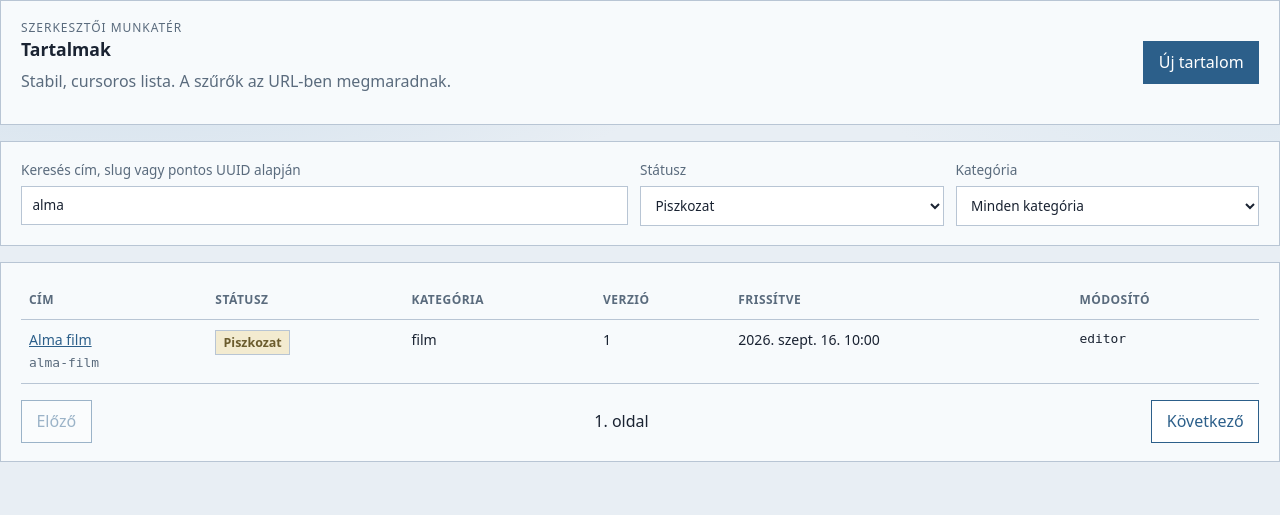
Test: ContentListPage › keeps next, previous and filter reset as one logical step under StrictMode
Click the button "Következő" at (1205, 422), box x1=1151 y1=400 x2=1259 y2=443
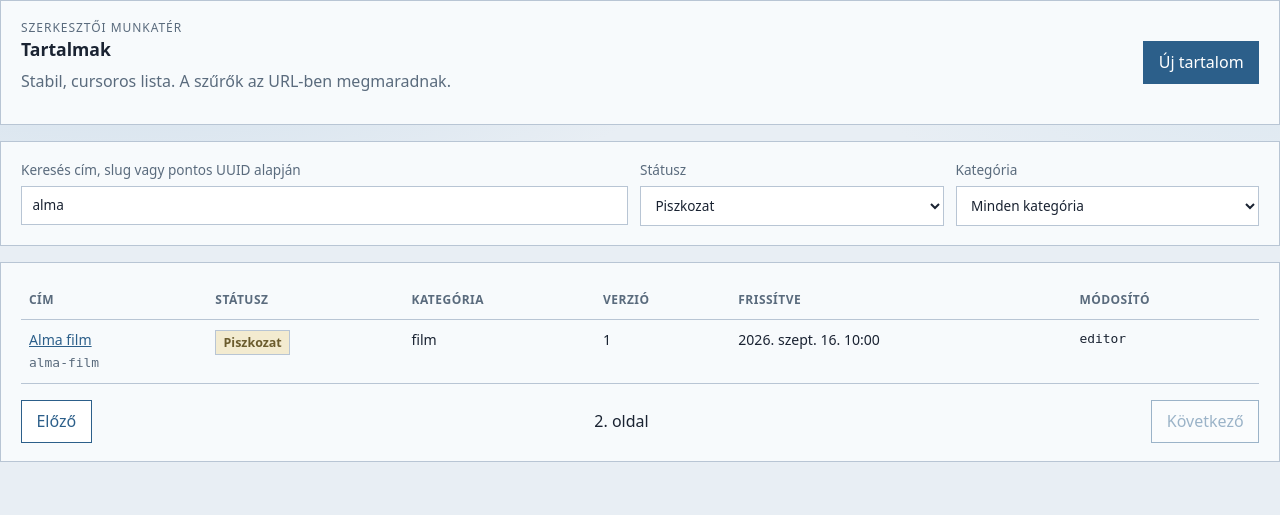
Check: the navigation bar named "Tartalomlista lapozása" shows "2. oldal", box x1=21 y1=384 x2=1259 y2=443
Check: the button "Előző" is enabled
Click the button "Előző" at (56, 422), box x1=21 y1=400 x2=92 y2=443
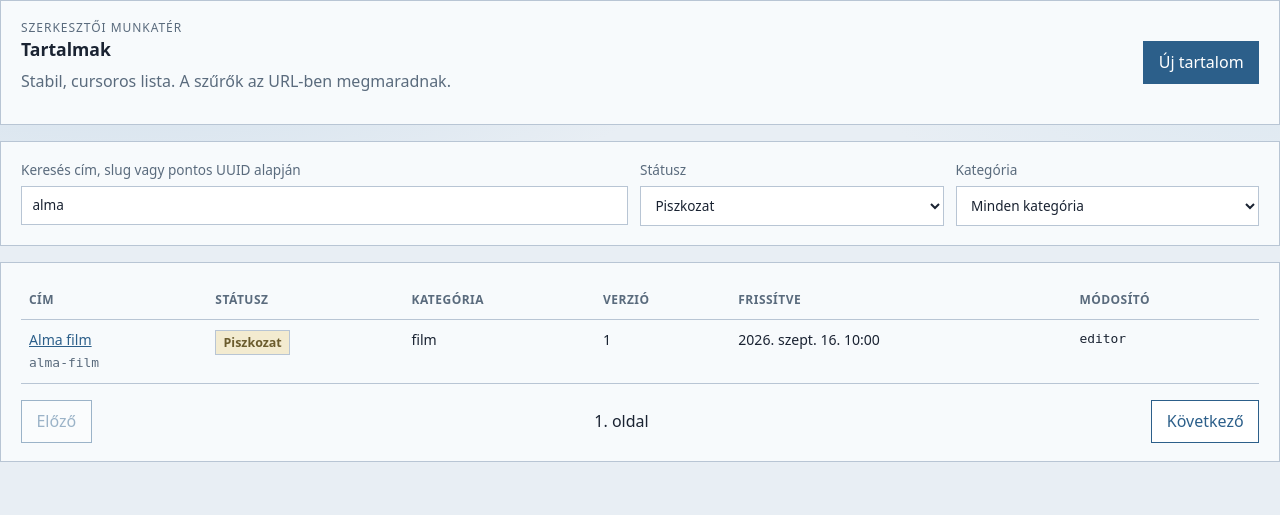
Check: the navigation bar named "Tartalomlista lapozása" shows "1. oldal", box x1=21 y1=384 x2=1259 y2=443
Check: the button "Következő" is enabled
Click the button "Következő" at (1205, 422), box x1=1151 y1=400 x2=1259 y2=443
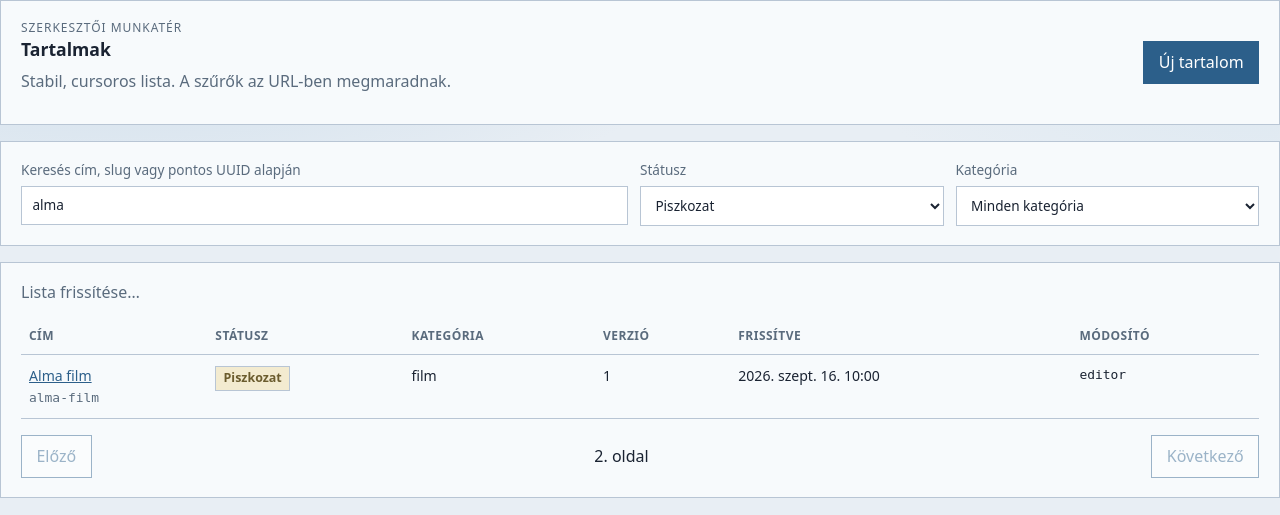
Check: the navigation bar named "Tartalomlista lapozása" shows "2. oldal", box x1=21 y1=419 x2=1259 y2=478
Select "Publikált" in the dropdown labelled "Státusz" at (792, 206), box x1=640 y1=186 x2=944 y2=226
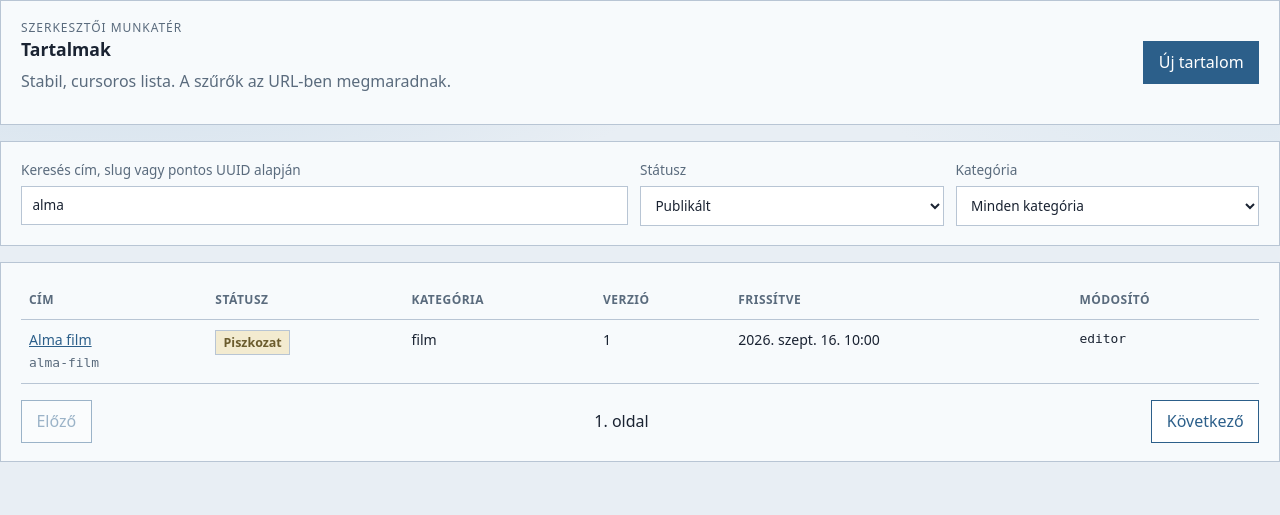
Check: the button "Előző" is disabled, box x1=21 y1=400 x2=92 y2=443
Check: the navigation bar named "Tartalomlista lapozása" shows "1. oldal", box x1=21 y1=384 x2=1259 y2=443
